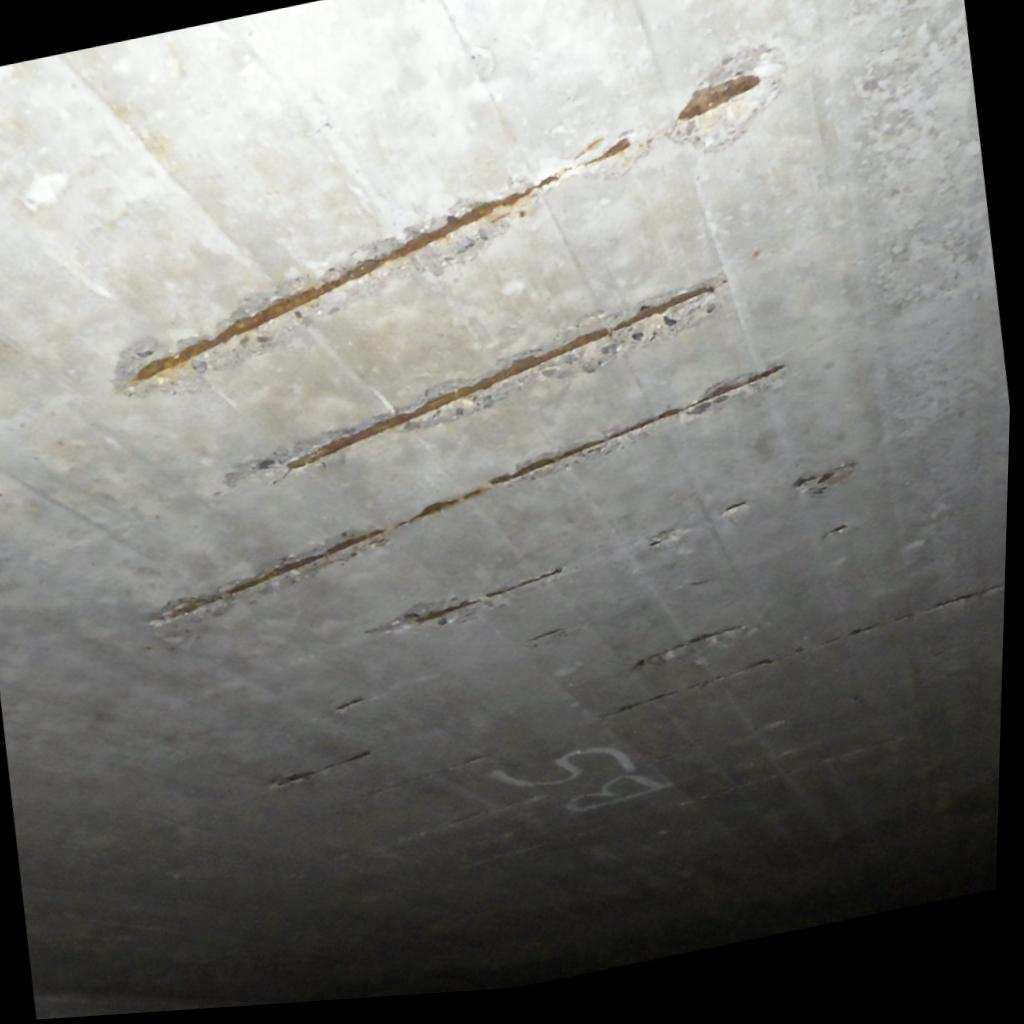exposed_rebar: (154, 364, 783, 622), (130, 169, 576, 385), (286, 285, 714, 470), (678, 73, 760, 121), (582, 137, 631, 164)
spalling: (116, 46, 783, 391), (154, 366, 783, 624), (226, 279, 725, 485), (500, 282, 719, 376), (368, 598, 482, 632), (486, 568, 562, 598)
